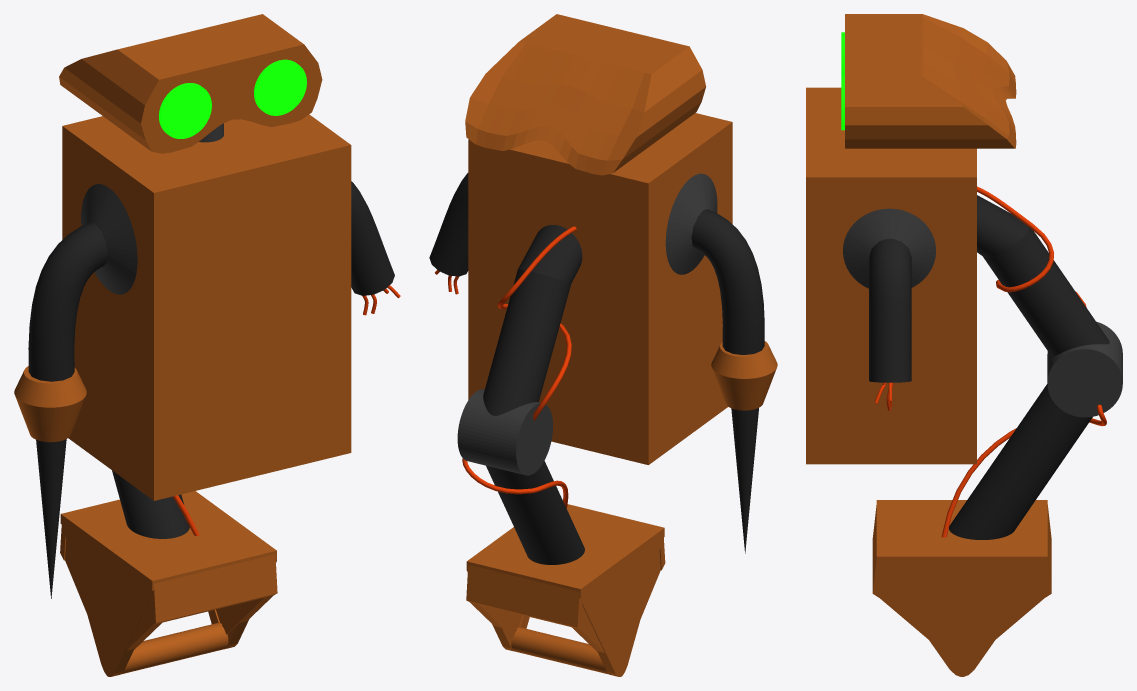
Rendered from MainCharModelWheel.glb.
3 renders of one model, left to right at view 1: azimuth 30°, elevation 25°; view 2: azimuth 150°, elevation 25°; view 3: azimuth 270°, elevation 25°, orthographic. The views are drawn at different scales.
Parts seen in each view (by area): view 1: Cube, Cylinder, Cube.001, BezierCurve.002, Cylinder.002, Cylinder.008, Circle, Cylinder.007, BezierCurve.003, Cylinder.003, Cone, Cylinder.001; view 2: Cube, Cube.001, Cylinder, Cylinder.004, BezierCurve.002, Cylinder.005, Cylinder.001, Cylinder.003, Cylinder.007, Circle, BezierCurve.003, Cone (+2 smaller); view 3: Cube, Cube.001, Cylinder, Cylinder.003, Cylinder.004, BezierCurve.003, Cylinder.005, Circle.002, Cylinder.001, Cylinder.002, BezierCurve.001, BezierCurve.
Boxes of the visible parts, x1,y1,x2,y2 form: Cube: (62,114,351,500); Cylinder: (60,491,276,676); Cube.001: (59,14,322,153); BezierCurve.002: (28,222,107,381); Cylinder.002: (126,554,277,650); Cylinder.008: (159,59,306,138); Circle: (81,184,137,294); Cylinder.007: (14,366,86,442); BezierCurve.003: (351,181,394,295); Cylinder.003: (112,470,189,538); Cone: (36,439,66,598); Cylinder.001: (60,525,219,623); Cube: (468,113,732,464); Cube.001: (465,14,706,175); Cylinder: (466,504,664,676); Cylinder.004: (483,225,582,415); BezierCurve.002: (691,209,764,354); Cylinder.005: (457,389,552,475); Cylinder.001: (466,565,604,652); Cylinder.003: (486,461,584,564); Cylinder.007: (711,341,777,410); Circle: (665,173,717,274); BezierCurve.003: (429,173,468,276); Cone: (731,408,758,553); Cube: (806,87,976,464); Cube.001: (845,14,1016,148); Cylinder: (876,500,1047,676); Cylinder.003: (949,383,1092,539); Cylinder.004: (977,195,1109,356); BezierCurve.003: (869,238,911,382); Cylinder.005: (1047,321,1122,417); Circle.002: (843,208,935,288); Cylinder.001: (996,505,1051,638); Cylinder.002: (872,505,928,639); BezierCurve.001: (977,186,1086,307); BezierCurve: (941,404,1106,537).
Bounding box in the file's own units: 4.7 × 7.76 × 3.7.
